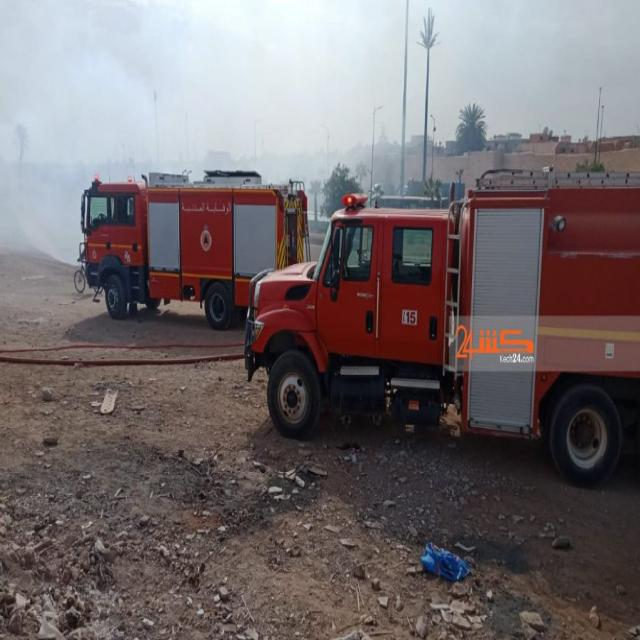pompier: (256, 191, 638, 474), (78, 168, 300, 328)
